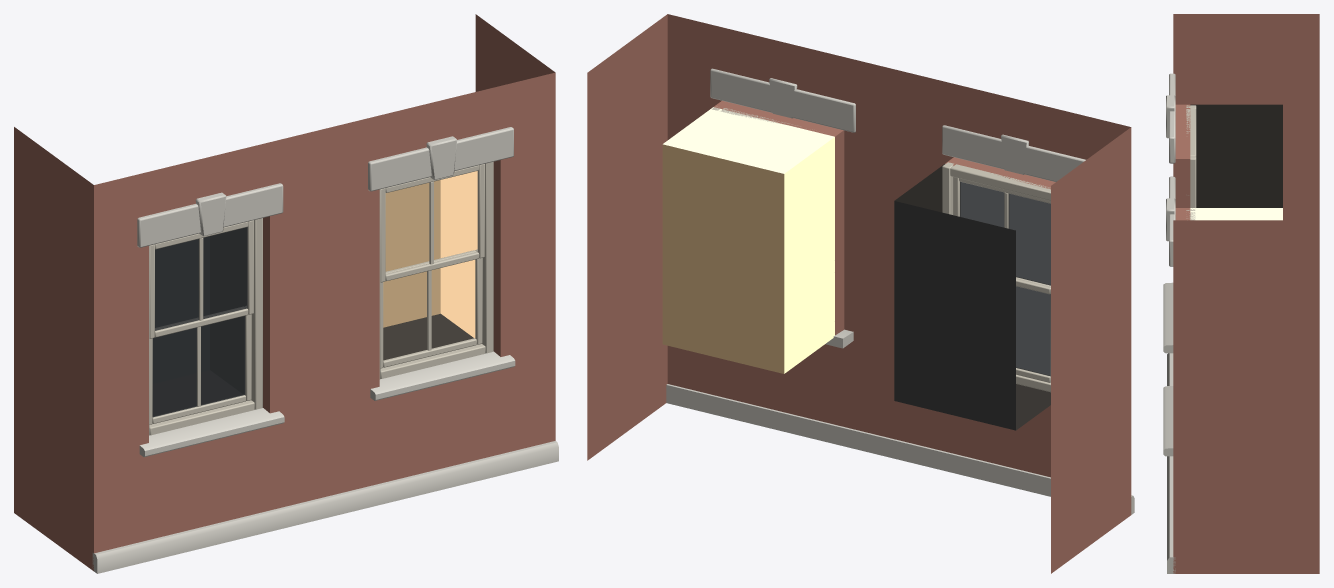
Rendered from upper_4a.glb.
3 renders of one model, left to right at view 1: azimuth 30°, elevation 25°; view 2: azimuth 150°, elevation 25°; view 3: azimuth 270°, elevation 25°, orthographic. The views are drawn at different scales.
Visible parts, largest first — view 1: upper_4a; view 2: upper_4a; view 3: upper_4a.
Part boxes in pixels (<box>): upper_4a: <box>14,14,558,573</box>; upper_4a: <box>587,14,1134,573</box>; upper_4a: <box>1163,14,1319,573</box>.
Bounding box in the file's own units: 4 × 3.2 × 1.28.
